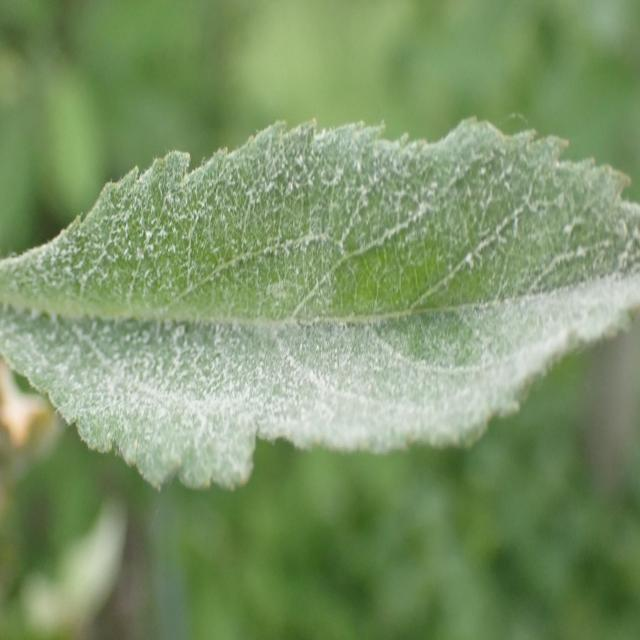Powdery_mildew: (0, 100, 640, 487)
